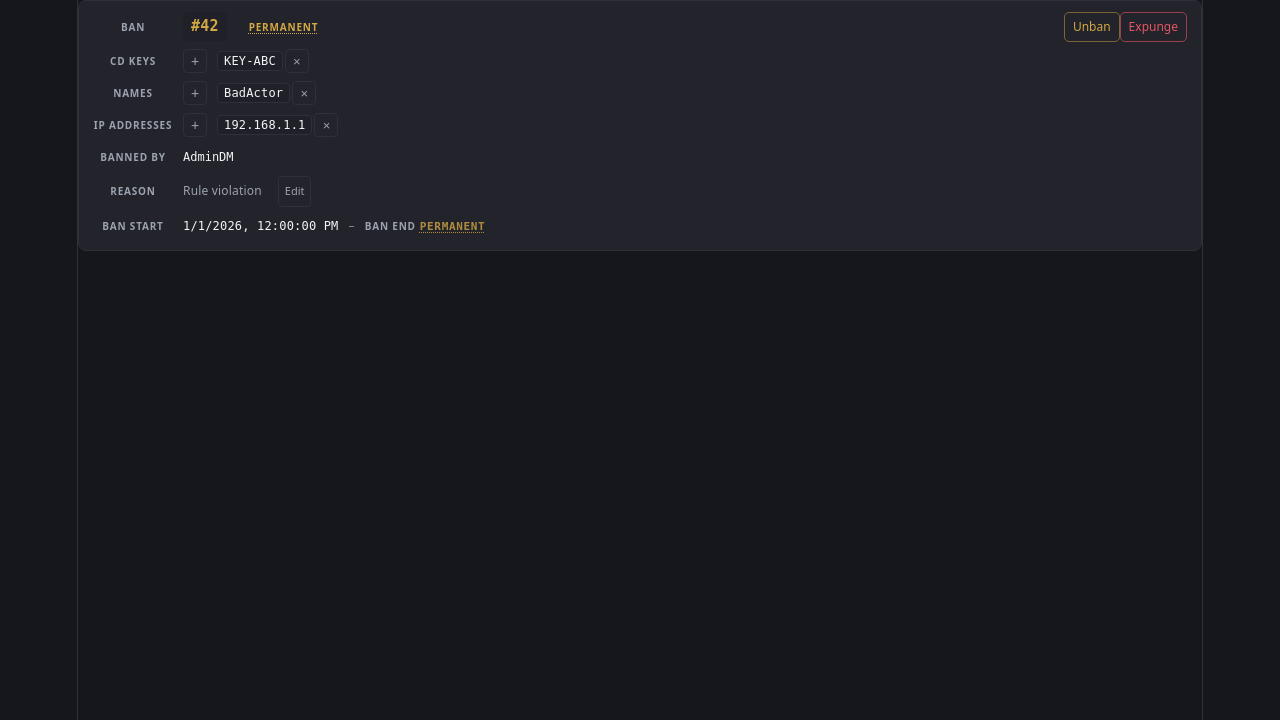
Test: BannedPlayerItem › editing reason — keyboard and errors › cancels reason editing when Escape is pressed
Click the button with aria-label "edit ban reason" at (295, 192), box left=278, top=176, right=312, bottom=207
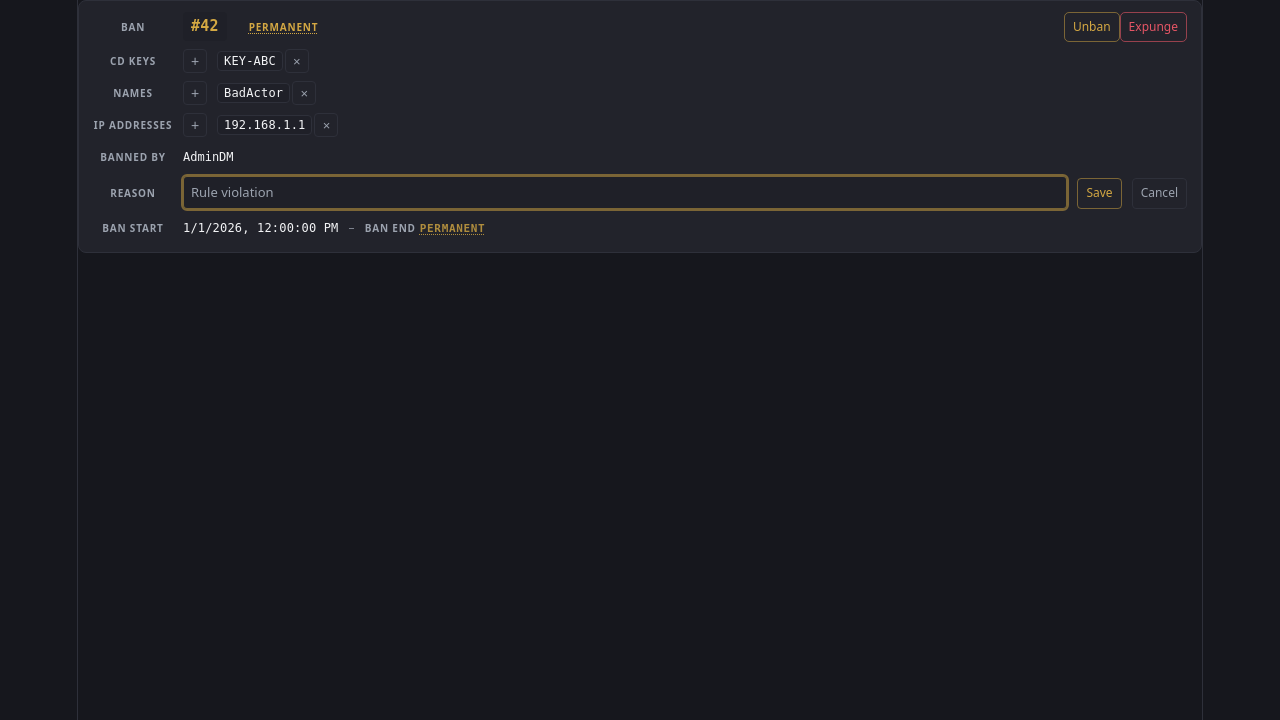
expect the field named "ban reason" is shown: met, box left=183, top=176, right=1068, bottom=209
Press Escape
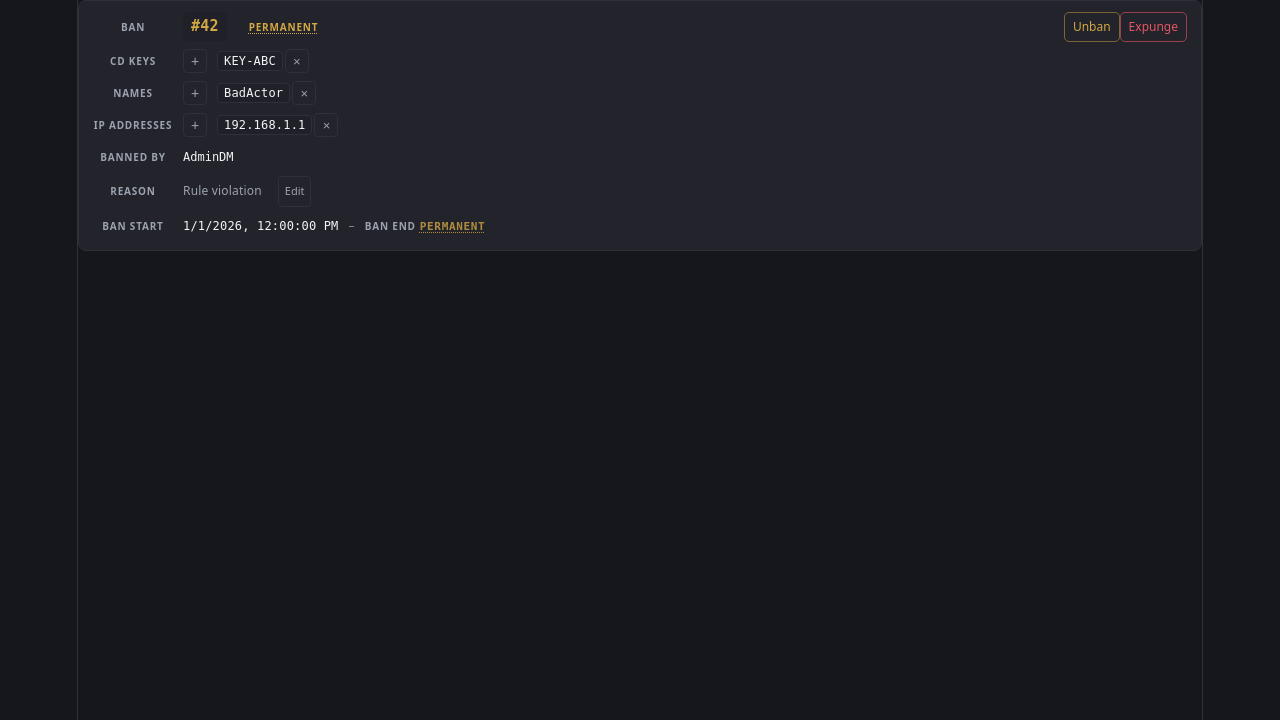
expect the text "Rule violation" is shown: met, box left=183, top=184, right=262, bottom=200
